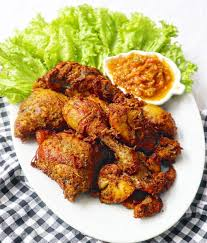Ayam goreng: (62, 96, 140, 175), (31, 133, 99, 204), (9, 87, 70, 142)
